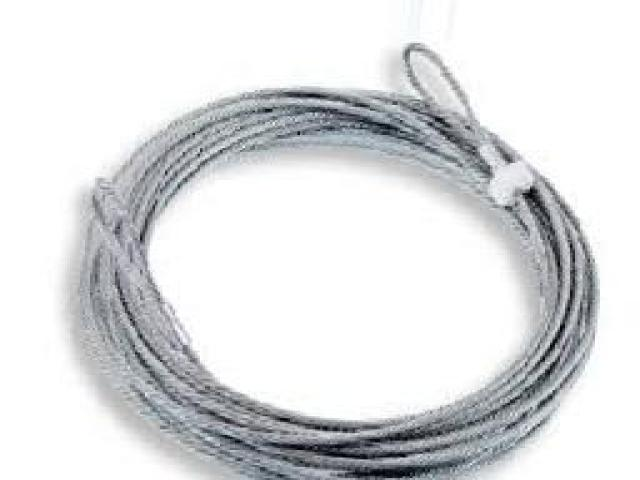wire: (72, 39, 600, 478)
